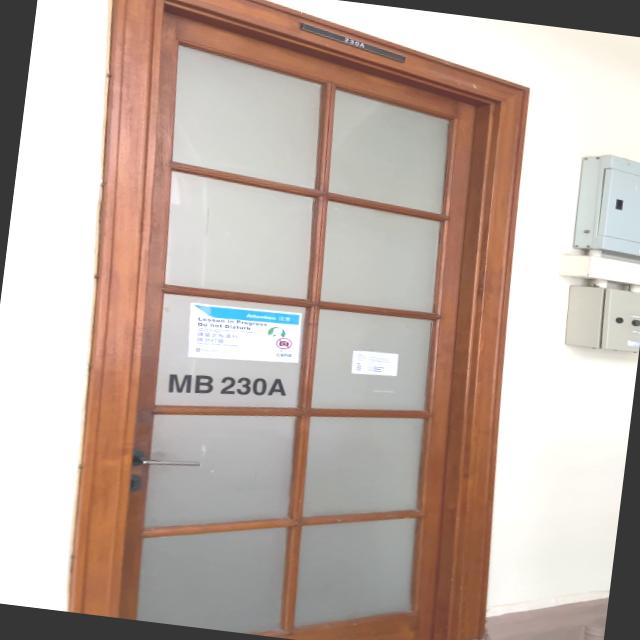room230A: (299, 19, 411, 64)
room230AWindow: (163, 362, 294, 412)
